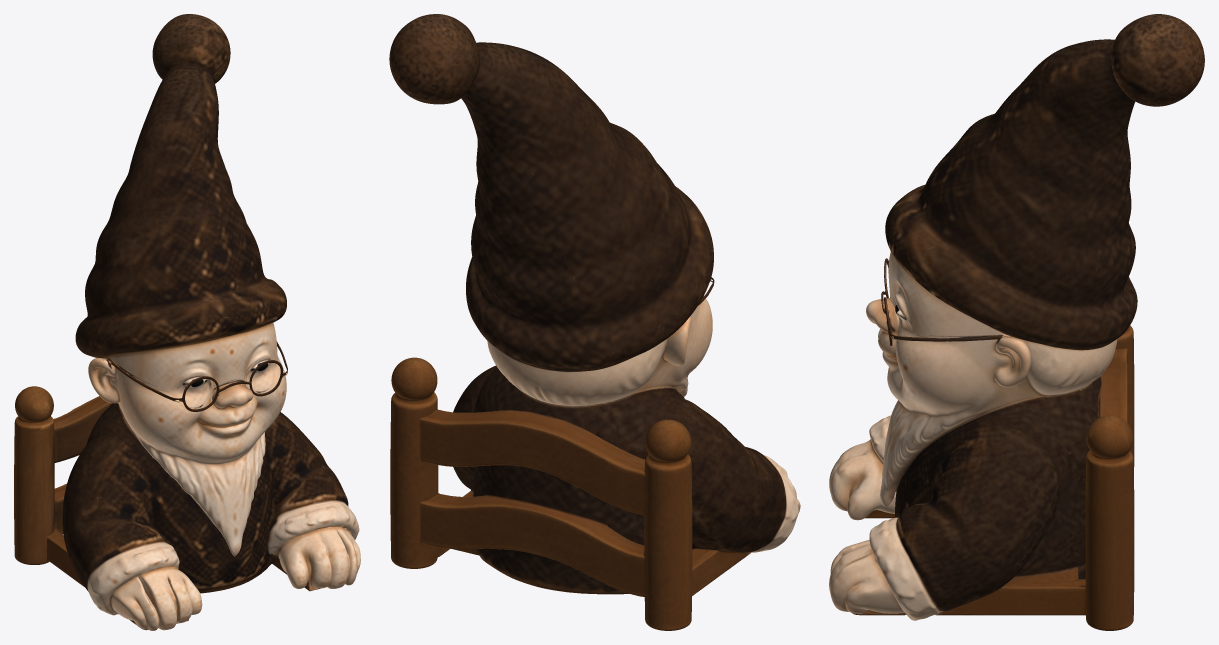
The model's file is gnome.glb.
3 renders of one model, left to right at view 1: azimuth 30°, elevation 25°; view 2: azimuth 150°, elevation 25°; view 3: azimuth 270°, elevation 25°, orthographic. The views are drawn at different scales.
Bounding box in the file's own units: 1.08 × 1.9 × 1.11.
Materials: 1 (1 with a texture image).
